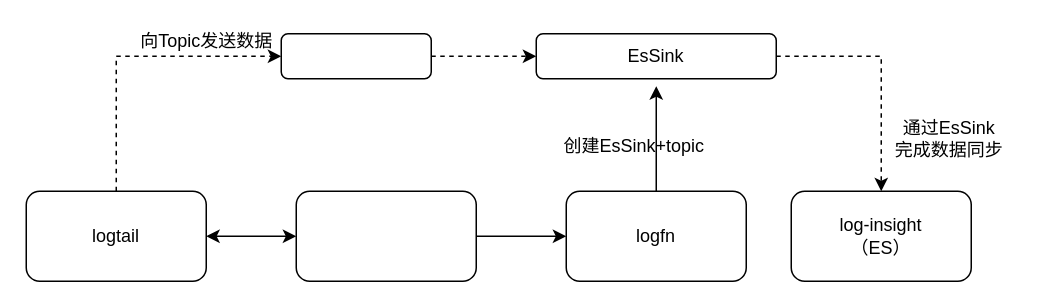
This 1043x308 diagram has some shape labels left out. The centre of each missing label's shape, as x and y in pixels:
log-access: the point at 385,235
Topic: the point at 355,55
